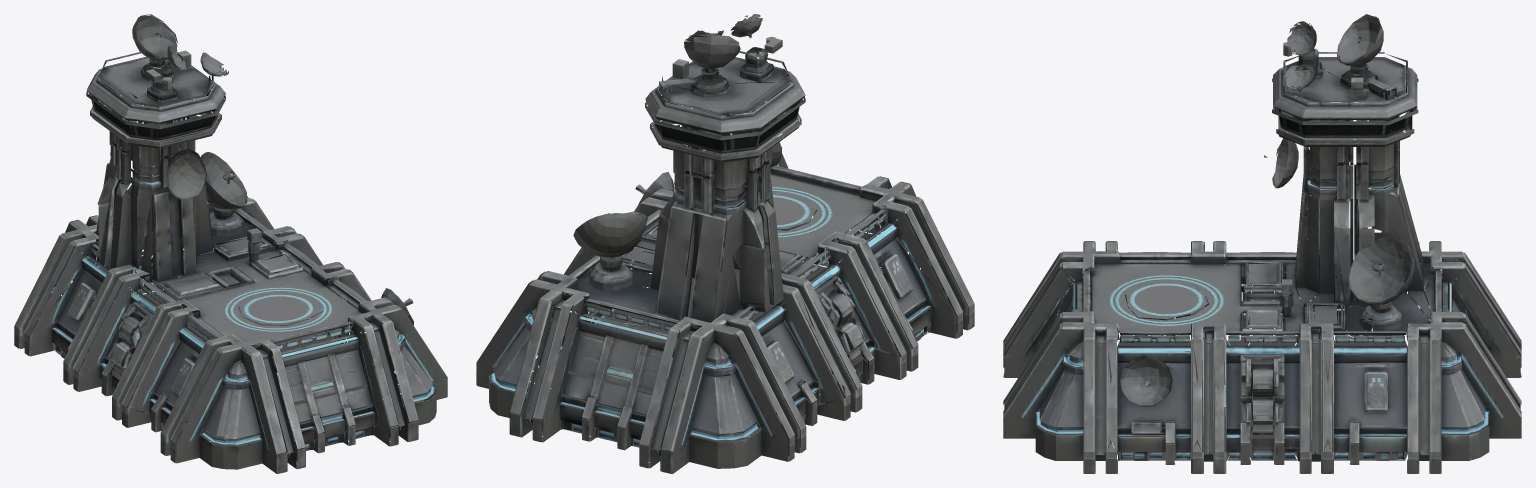
Rendered from headquarters_LOD1.glb.
3 views of the same model, side by side, from view 1: azimuth 30°, elevation 25°; view 2: azimuth 150°, elevation 25°; view 3: azimuth 270°, elevation 25° (orthographic). The views are drawn at different scales.
Visible parts, largest first — view 1: headquarters_LOD1; view 2: headquarters_LOD1; view 3: headquarters_LOD1.
Part boxes in pixels (<box>): headquarters_LOD1: <box>14,14,447,473</box>; headquarters_LOD1: <box>476,14,974,473</box>; headquarters_LOD1: <box>1003,14,1521,473</box>.
Size of the model in its own units: 0.6712 by 0.771 by 1.
1 material, 1 textured.
